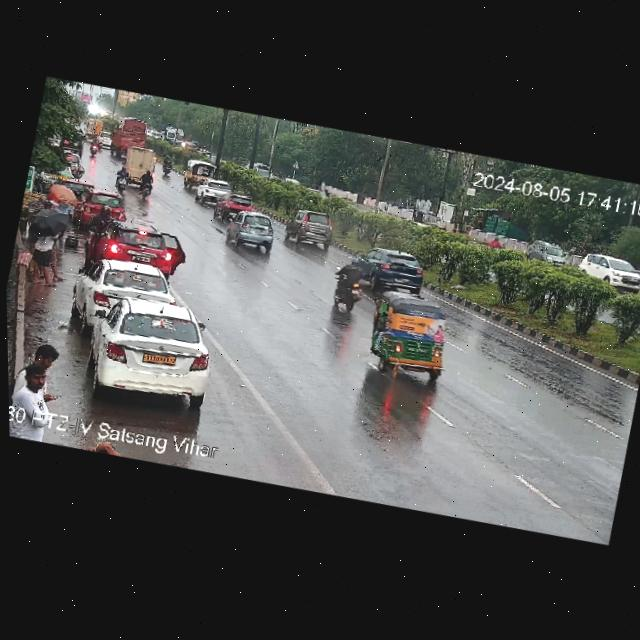car: (78, 288, 220, 412), (357, 282, 466, 388), (72, 254, 178, 336), (97, 214, 185, 276), (351, 241, 429, 299), (572, 246, 640, 296), (222, 206, 282, 257), (283, 206, 338, 252), (82, 188, 136, 229), (522, 236, 579, 269), (211, 189, 260, 225), (195, 175, 235, 206), (184, 158, 216, 192)
motorcycle: (328, 258, 373, 316), (86, 200, 118, 236), (109, 162, 133, 197), (135, 169, 157, 200), (160, 152, 178, 179), (88, 138, 99, 157)
person: (7, 331, 79, 446), (22, 211, 62, 292), (43, 214, 79, 287)
truck: (104, 107, 153, 161), (113, 143, 163, 189), (162, 124, 185, 150)
